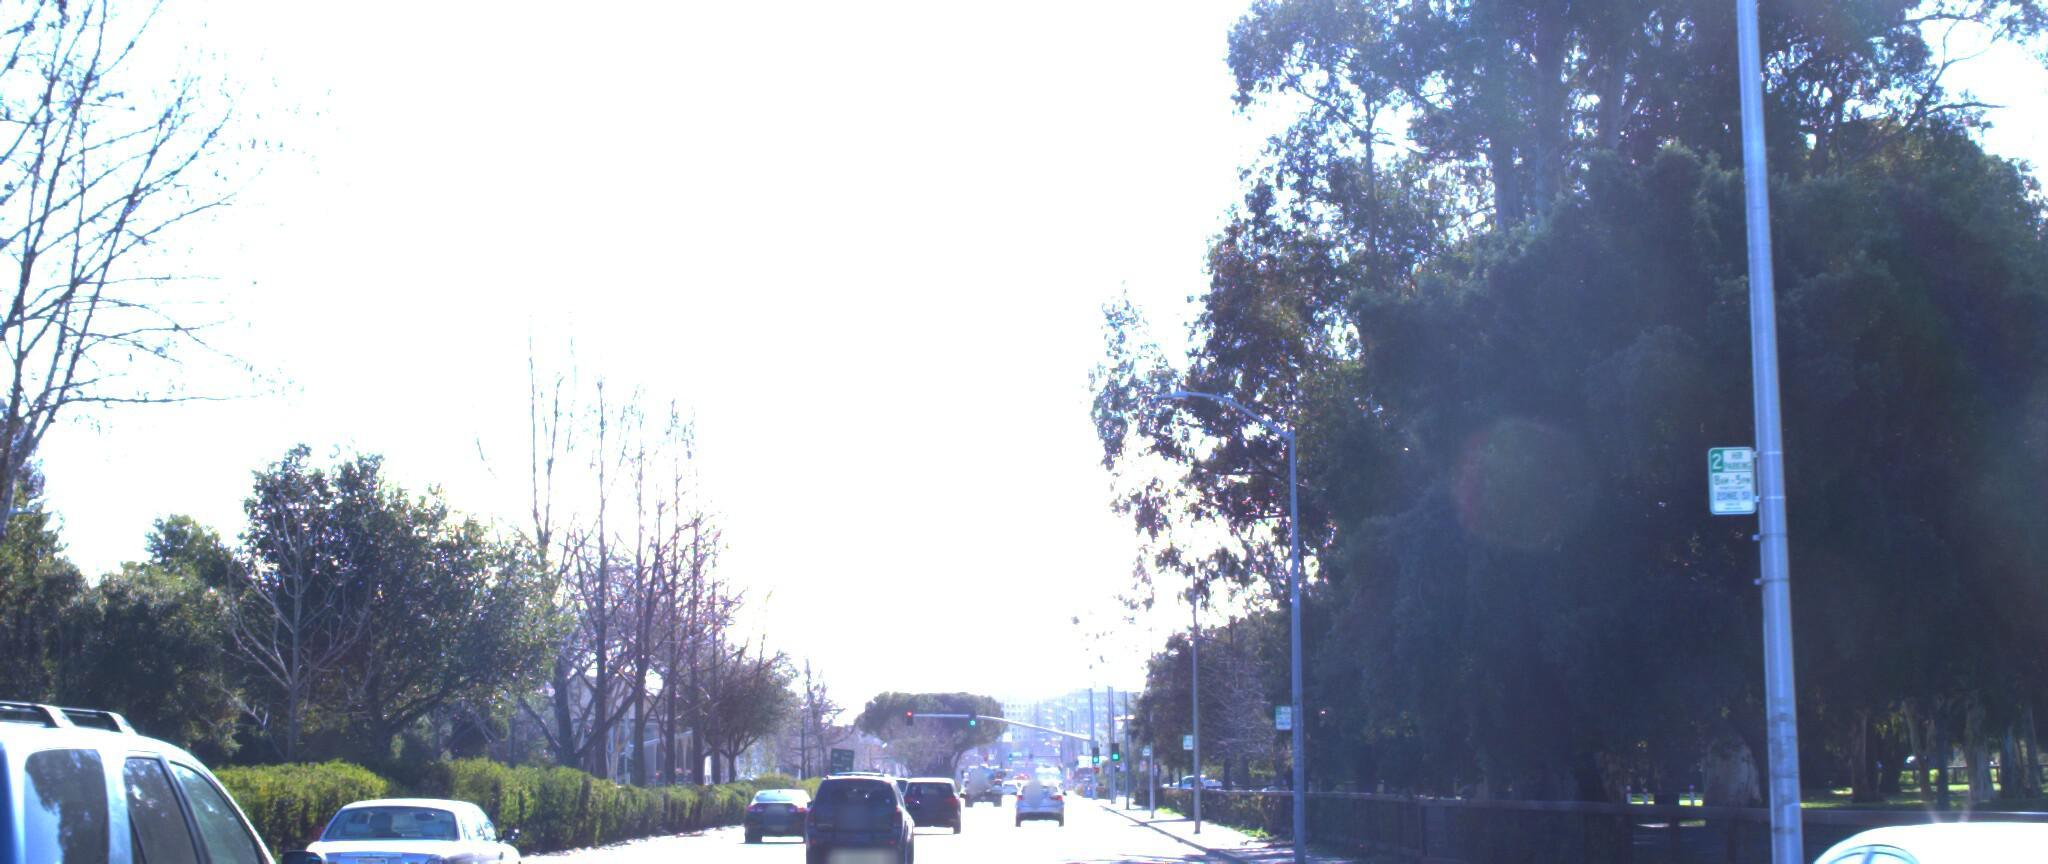car: (0, 687, 398, 864), (1629, 803, 2048, 864), (266, 777, 543, 864), (790, 761, 916, 864)
